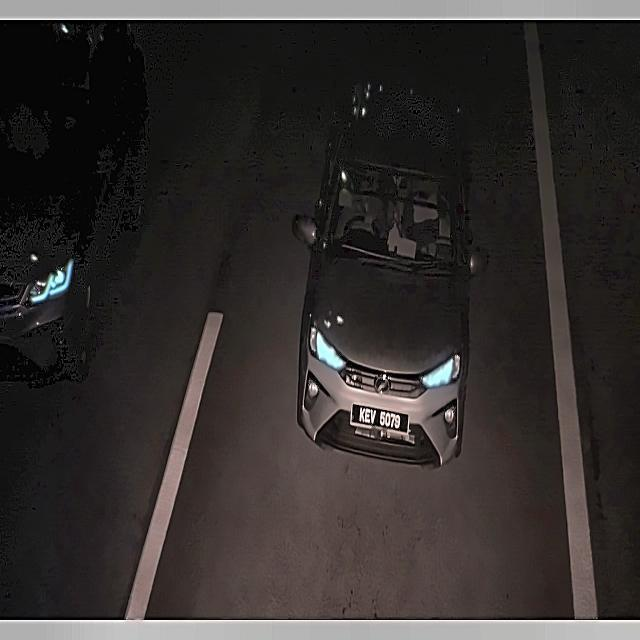car: (348, 397, 414, 442)
